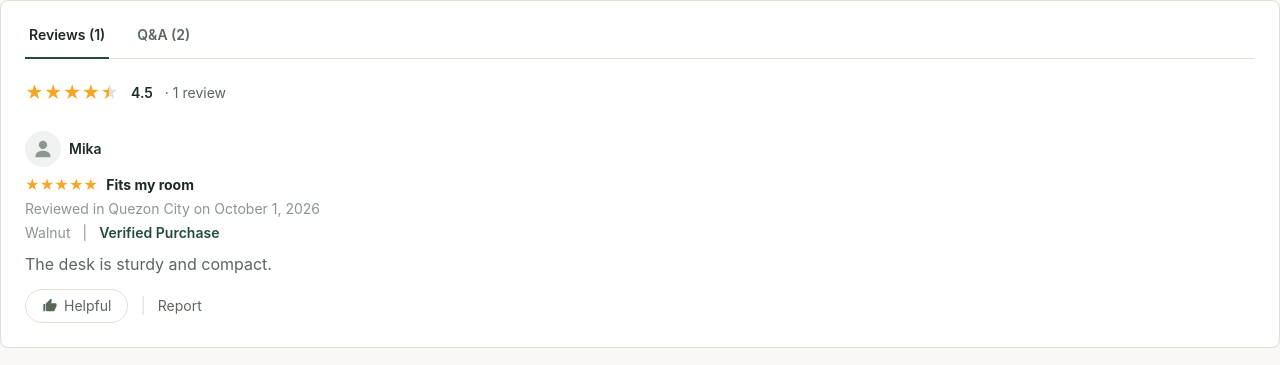
ProductFeedback › searches question and answer text without case sensitivity
The width and height of the screenshot is (1280, 365).
Step 1. Click the tab "Q&A (2)" → (164, 42), box [133,25,194,59]
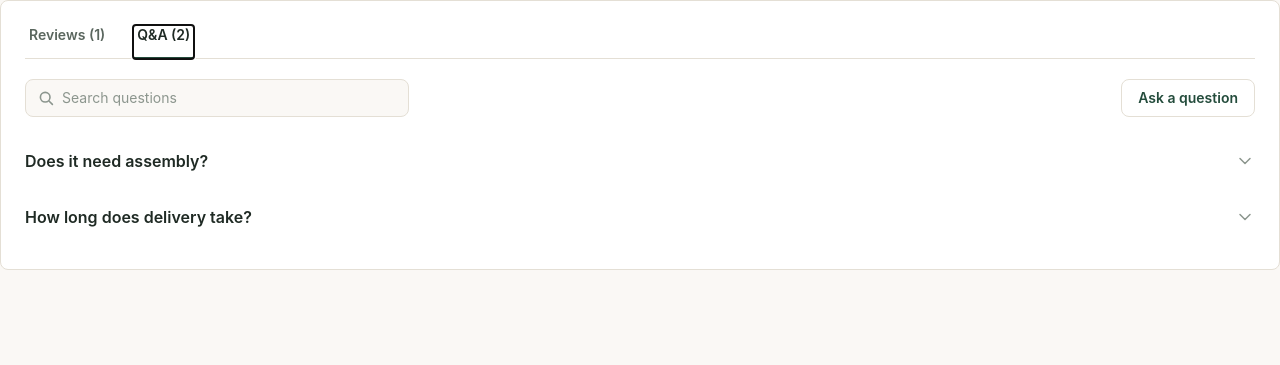
Step 2. Type "ALLEN KEY" into the search field labelled "Search questions" → (229, 98), box [62,88,396,108]
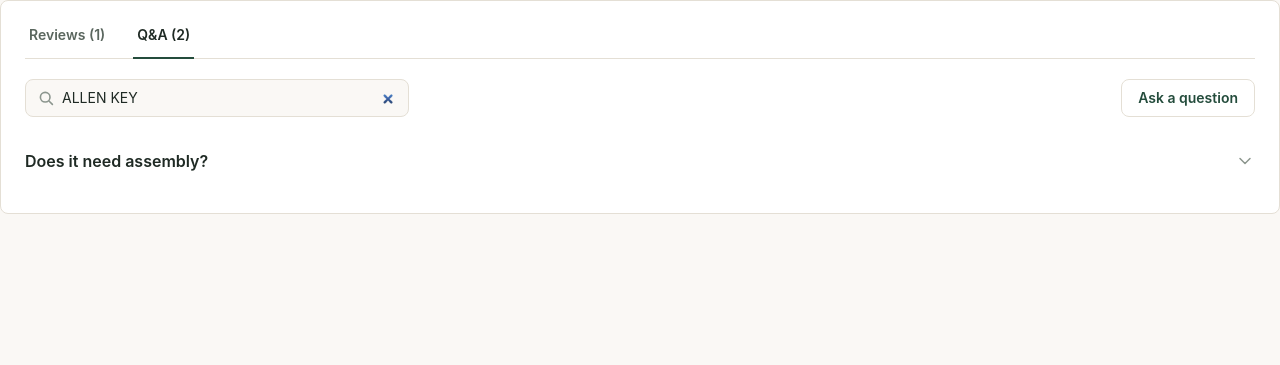
Check: the heading "Does it need assembly?" is shown, box [25,151,1255,171]
Check: the heading "How long does delivery take?" is gone
Step 3. Replace the text in the search field named "Search questions" with "business days" → (229, 98), box [62,88,396,108]
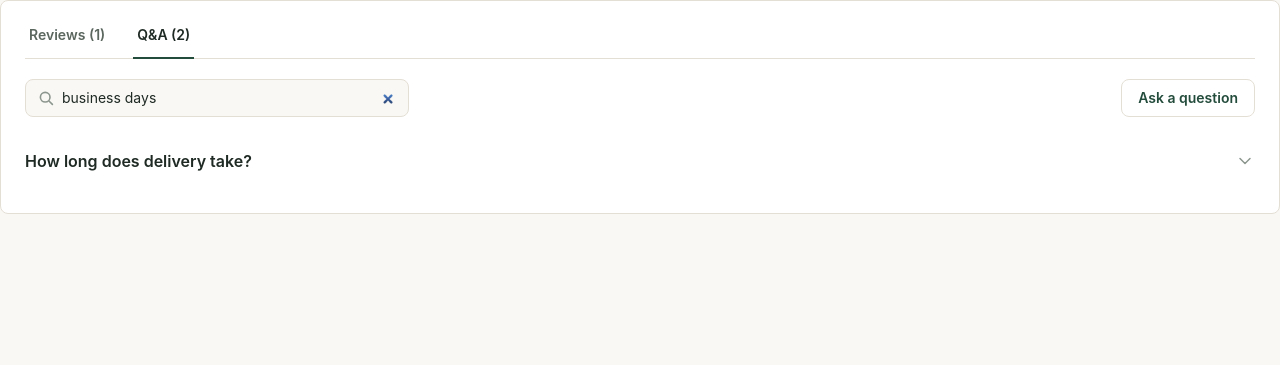
Check: the heading "How long does delivery take?" is shown, box [25,151,1255,171]
Check: the heading "Does it need assembly?" is gone
Step 4. Replace the text in the search field named "Search questions" with "missing phrase" → (229, 98), box [62,88,396,108]
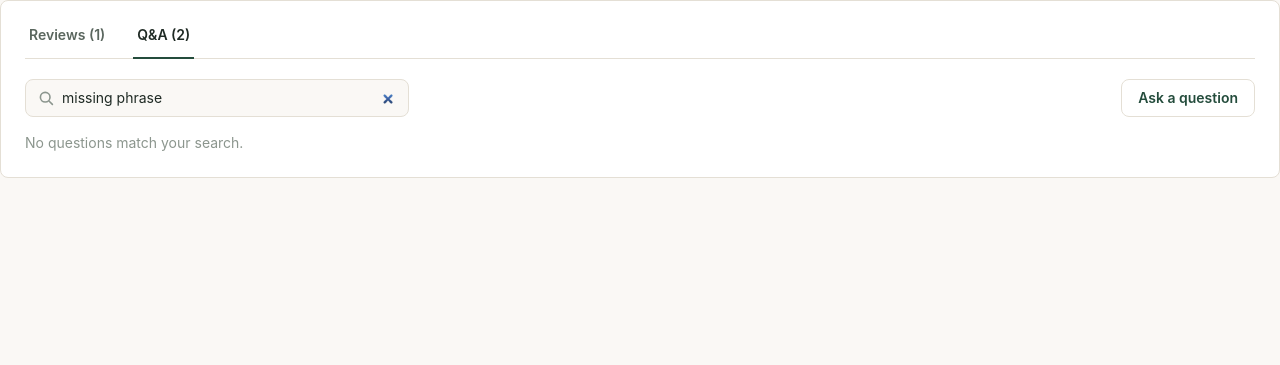
Check: the text "No questions match your search." is shown, box [25,134,243,151]
